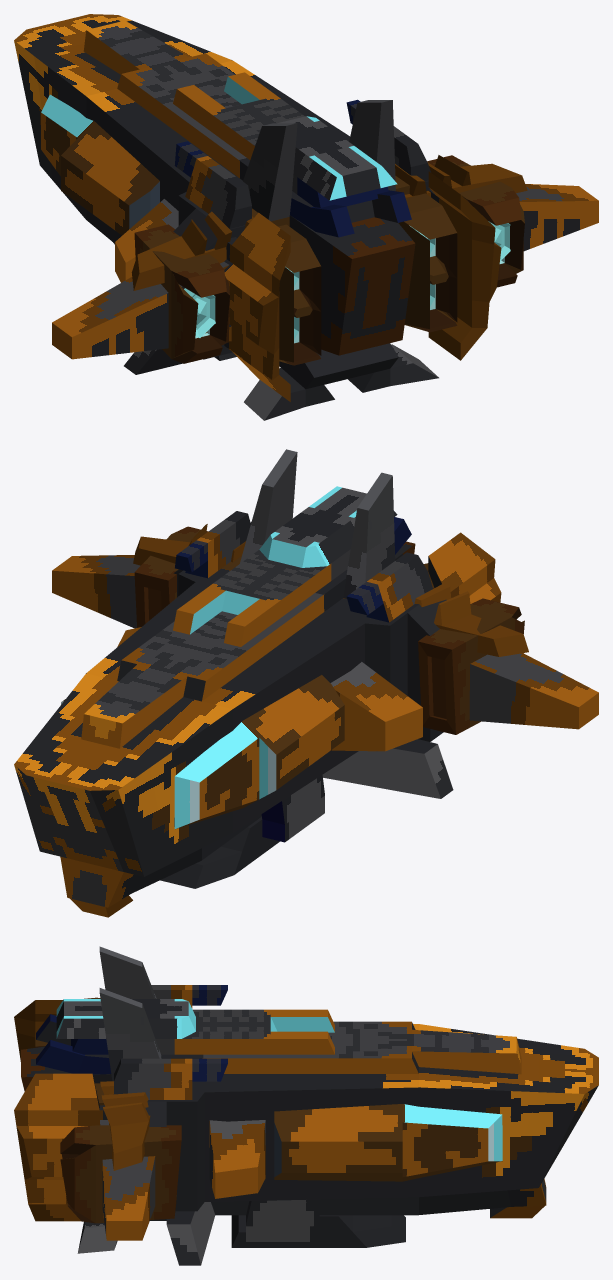
Rendered from npcShip2.glb.
3 views of the same model, one above another, from view 1: azimuth 30°, elevation 25°; view 2: azimuth 150°, elevation 25°; view 3: azimuth 270°, elevation 25° (orthographic). The views are drawn at different scales.
Visible parts, largest first — view 1: body_16, cuboid_3, cuboid_0, cuboid_18, wing 1_30, cuboid_22, cuboid_25, cuboid_14, cuboid_8, cuboid_4, wing 2_32, cuboid_19 (+7 smaller); view 2: body_16, cuboid_0, cuboid_3, wing 1_30, cuboid_25, wing 3_31, cuboid_5, wing 2_32, cuboid_4, cuboid_19, cuboid_18, cuboid_20 (+4 smaller); view 3: body_16, cuboid_1, cuboid_3, cuboid_22, cuboid_5, cuboid_28, wing 4_33, wing 2_32, cuboid_23, cuboid_6, cuboid_21, cuboid_4 (+2 smaller).
Boxes of the visible parts, x1,y1,x2,y2 form: body_16: [14, 14, 438, 420]; cuboid_3: [173, 72, 397, 207]; cuboid_0: [41, 94, 159, 235]; cuboid_18: [224, 212, 290, 401]; wing 1_30: [52, 262, 231, 359]; cuboid_22: [428, 171, 501, 360]; cuboid_25: [134, 224, 229, 363]; cuboid_14: [398, 193, 457, 332]; cuboid_8: [278, 224, 321, 365]; cuboid_4: [243, 123, 297, 221]; wing 2_32: [516, 184, 598, 251]; cuboid_19: [174, 141, 251, 228]; body_16: [14, 517, 453, 917]; cuboid_0: [174, 675, 344, 828]; cuboid_3: [173, 486, 397, 646]; wing 1_30: [469, 653, 598, 729]; cuboid_25: [418, 598, 524, 734]; wing 3_31: [330, 662, 422, 751]; cuboid_5: [160, 775, 324, 888]; wing 2_32: [52, 555, 140, 628]; cuboid_4: [343, 472, 395, 598]; cuboid_19: [346, 552, 432, 622]; cuboid_18: [428, 532, 501, 603]; cuboid_20: [414, 583, 528, 656]; body_16: [21, 1014, 598, 1265]; cuboid_1: [274, 1104, 502, 1181]; cuboid_3: [56, 999, 334, 1054]; cuboid_22: [14, 1073, 107, 1221]; cuboid_5: [231, 1199, 405, 1247]; cuboid_28: [60, 1125, 181, 1223]; wing 4_33: [209, 1120, 265, 1198]; wing 2_32: [100, 1120, 155, 1240]; cuboid_23: [114, 1058, 227, 1099]; cuboid_6: [99, 988, 162, 1081]; cuboid_21: [100, 1081, 150, 1170]; cuboid_4: [99, 946, 156, 998].
Size of the model in its own units: 14.19 by 7.55 by 15.38.
1 material, 1 textured.
